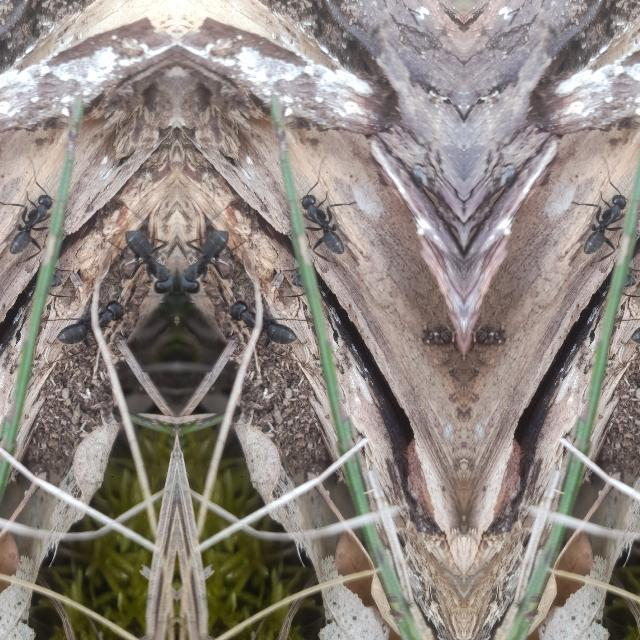Camponotus: (176, 202, 232, 320), (120, 202, 176, 320), (576, 170, 632, 276), (1, 170, 56, 276), (296, 170, 350, 276), (222, 288, 296, 354), (56, 288, 130, 354)
